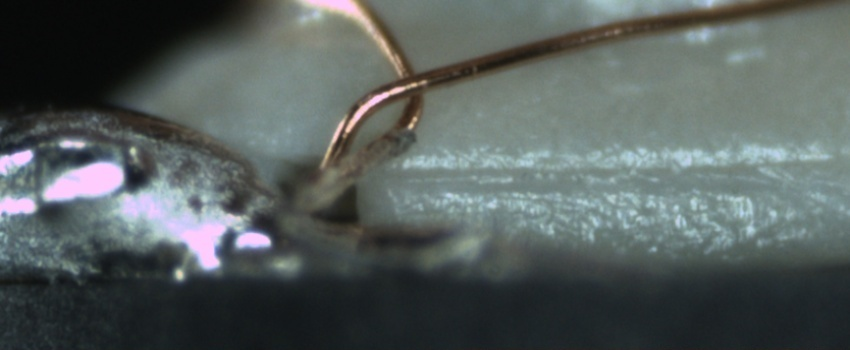DL: (387, 135, 849, 199)
